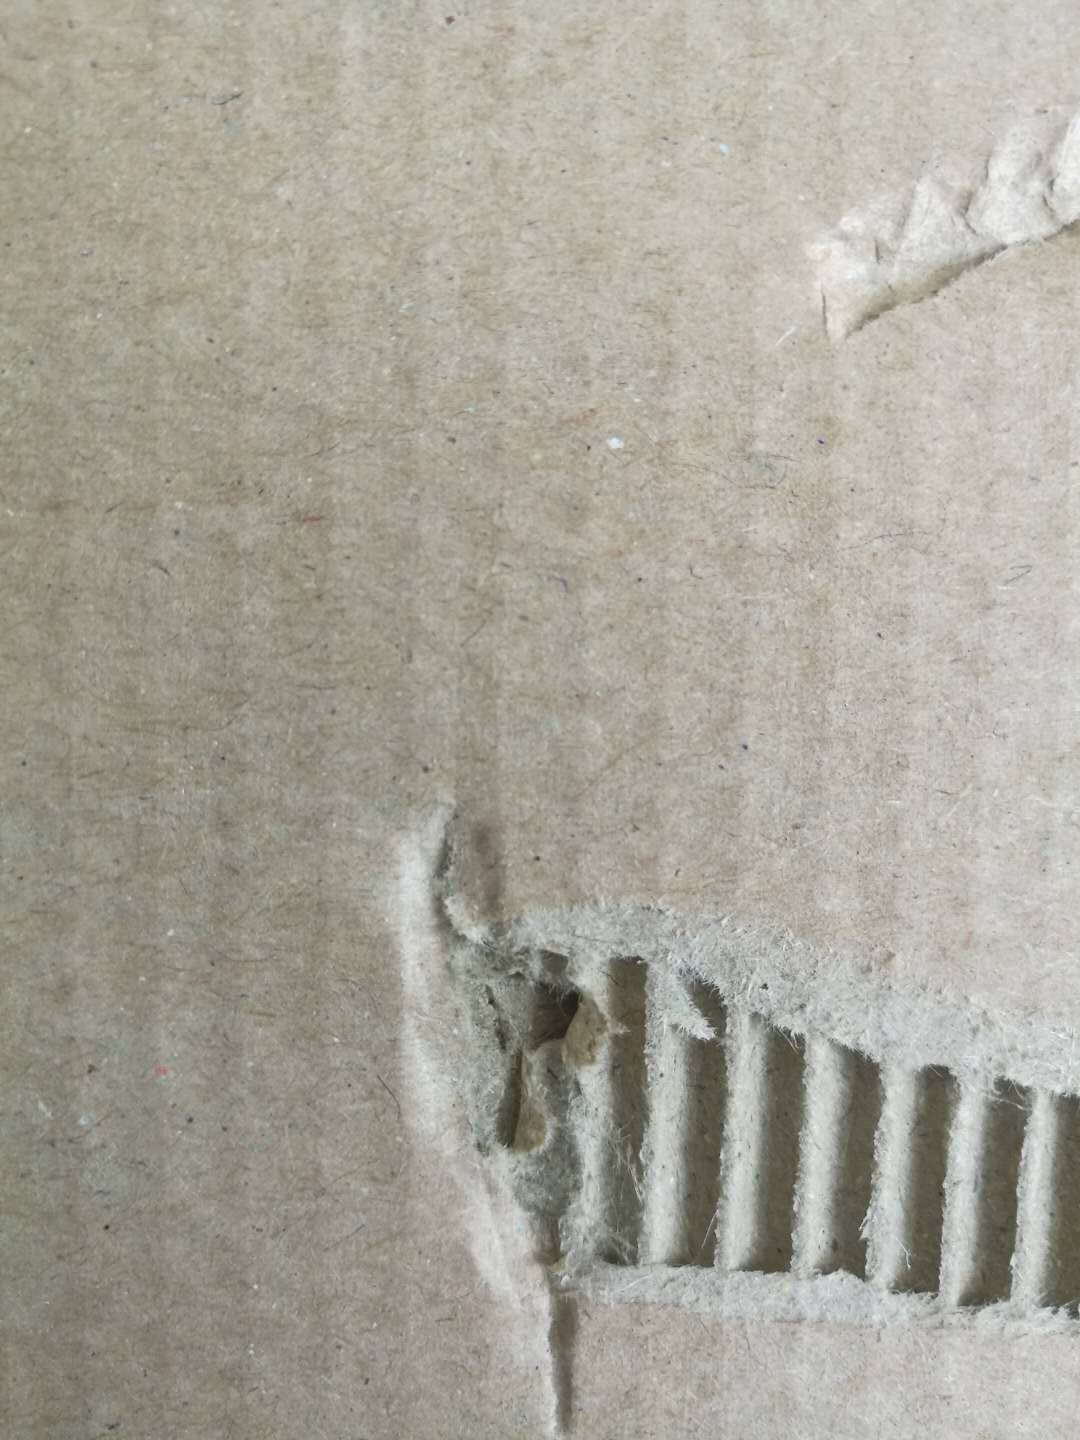defect: (331, 761, 1078, 1440), (774, 75, 1080, 376)
